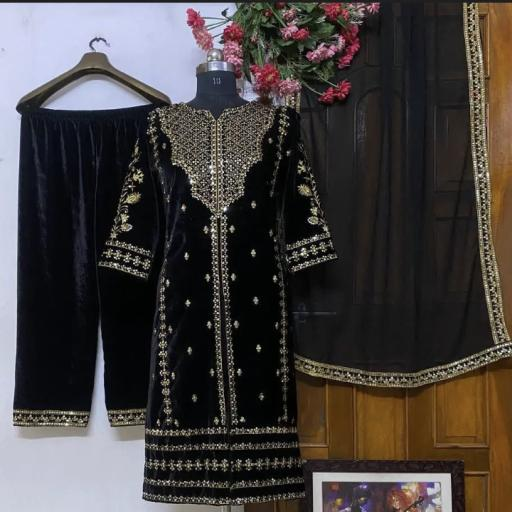dupatta: (275, 0, 512, 390)
kameez: (95, 100, 337, 510)
shalwar: (12, 98, 179, 434)
